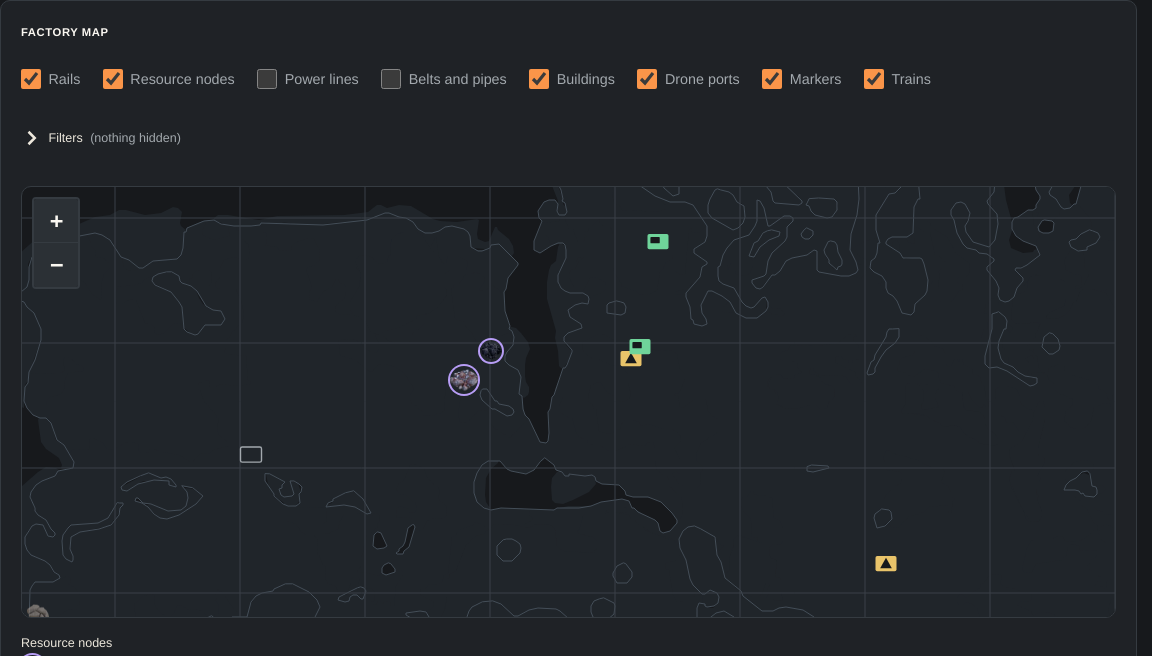
Scenario: map filters › summarises what is hidden while collapsed
Check: the text "(nothing hidden)" is shown, box [90,128,181,147]
Click the text "Filters": click(66, 138) [48,128,83,147]
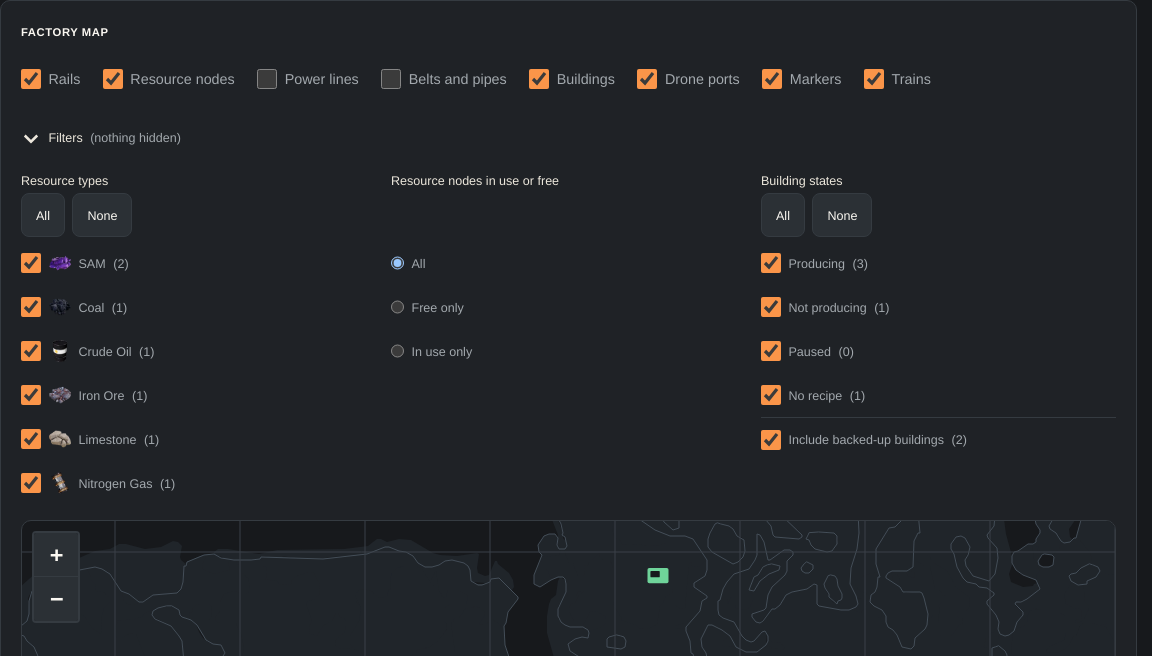
Click the checkbox labelled "SAM (2)": click(31, 263) [21,253,41,273]
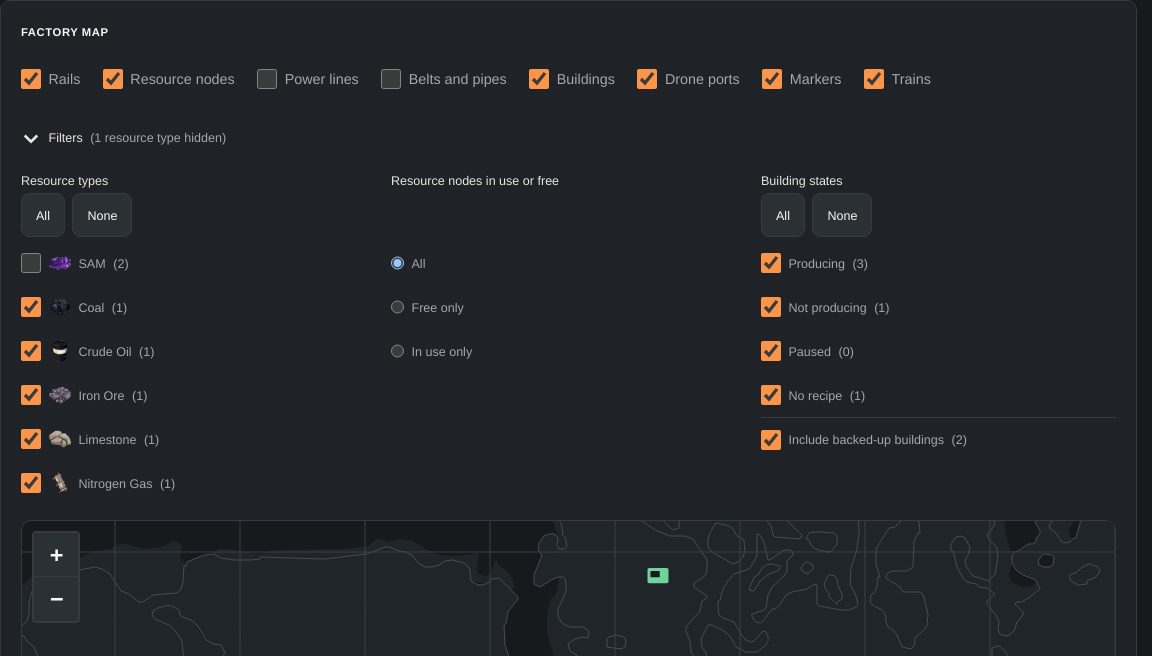
Click the radio button labelled "Free only": click(398, 307) [391,285,404,329]
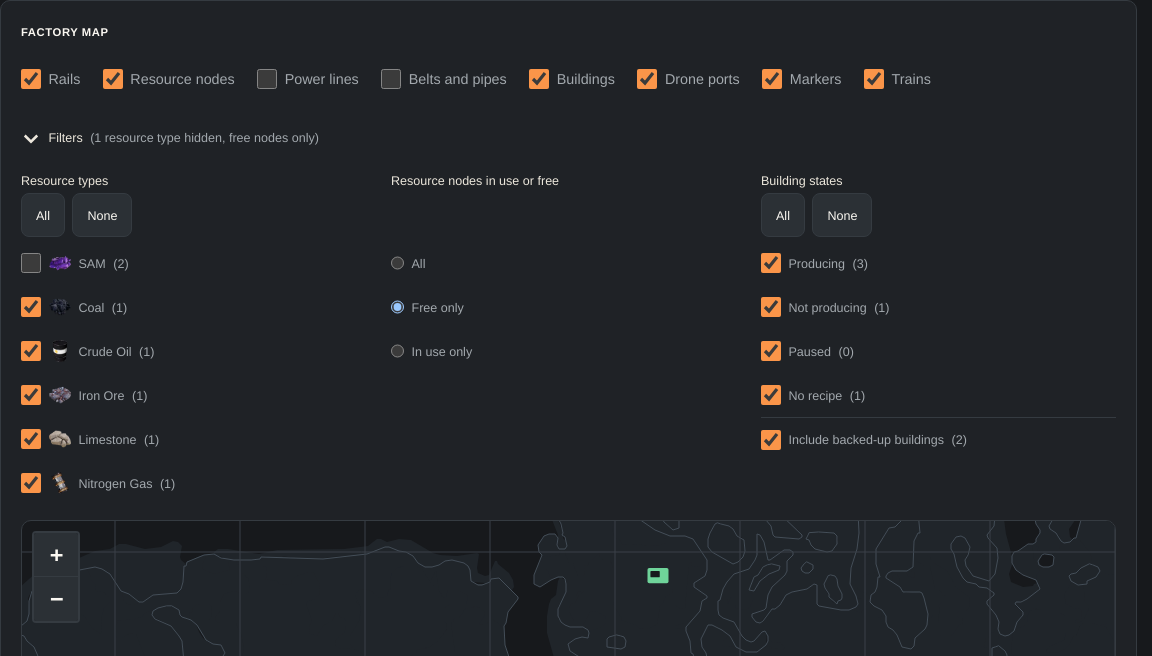
Click the checkbox labelled "Paused (0)": click(771, 351) [761,341,781,361]
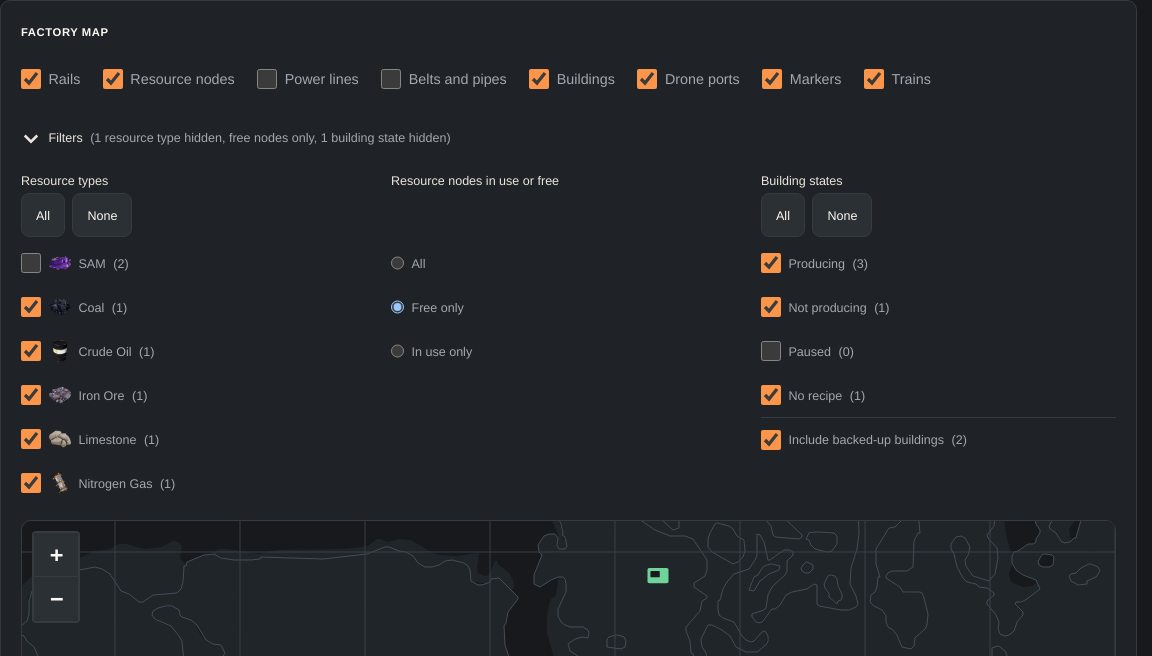
Check: the text "(1 resource type hidden, free nodes only, 1 building state hidden)" is shown, box [90,128,451,147]
